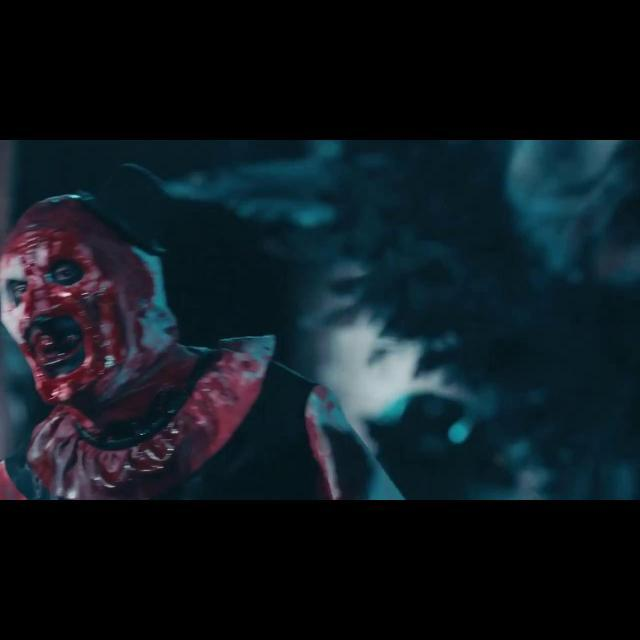blood: (0, 196, 274, 499), (306, 386, 342, 500), (0, 462, 25, 500)
